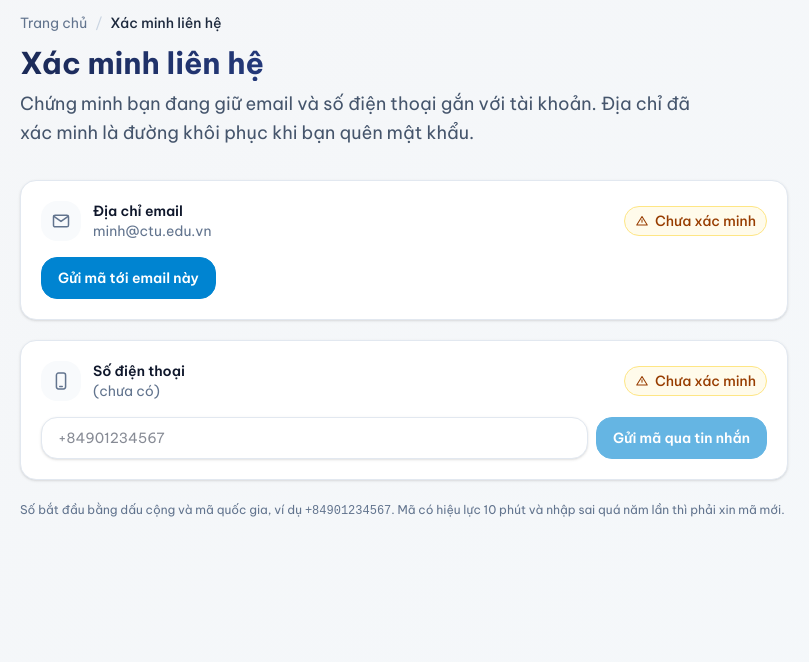
it: Chỉ một luồng mở tại một thời điểm › mở luồng email thì luồng SMS không còn ô nhập mã
What coordinates should you click on to do the following:
click the button "Gửi mã tới email này"
I would click on:
 (128, 278)
Its box is [41,256,216,298].
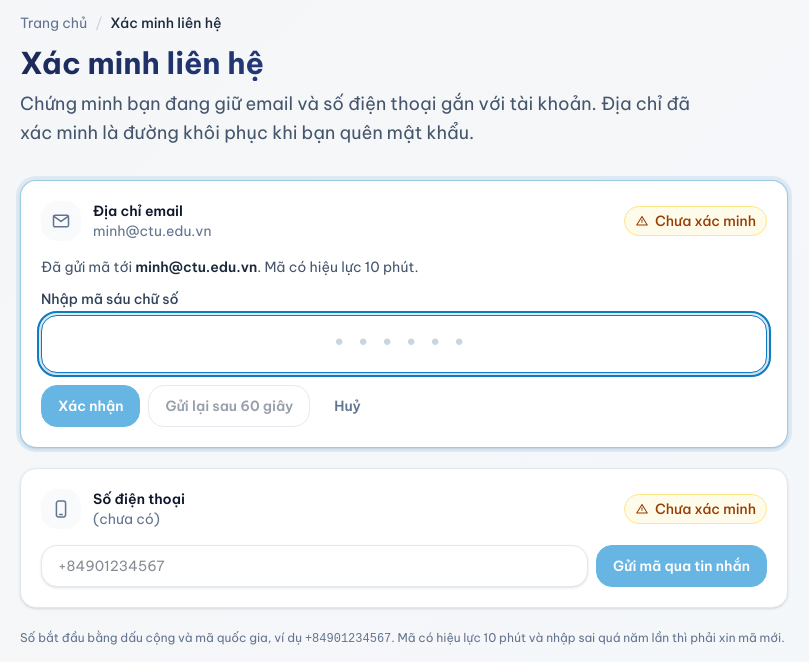
Expected: the button "Gửi mã qua tin nhắn" is shown, [596,544,767,586]
Now the number of fields labelled "Nhập mã sáu chữ số" is 1, box [41,314,767,372]
